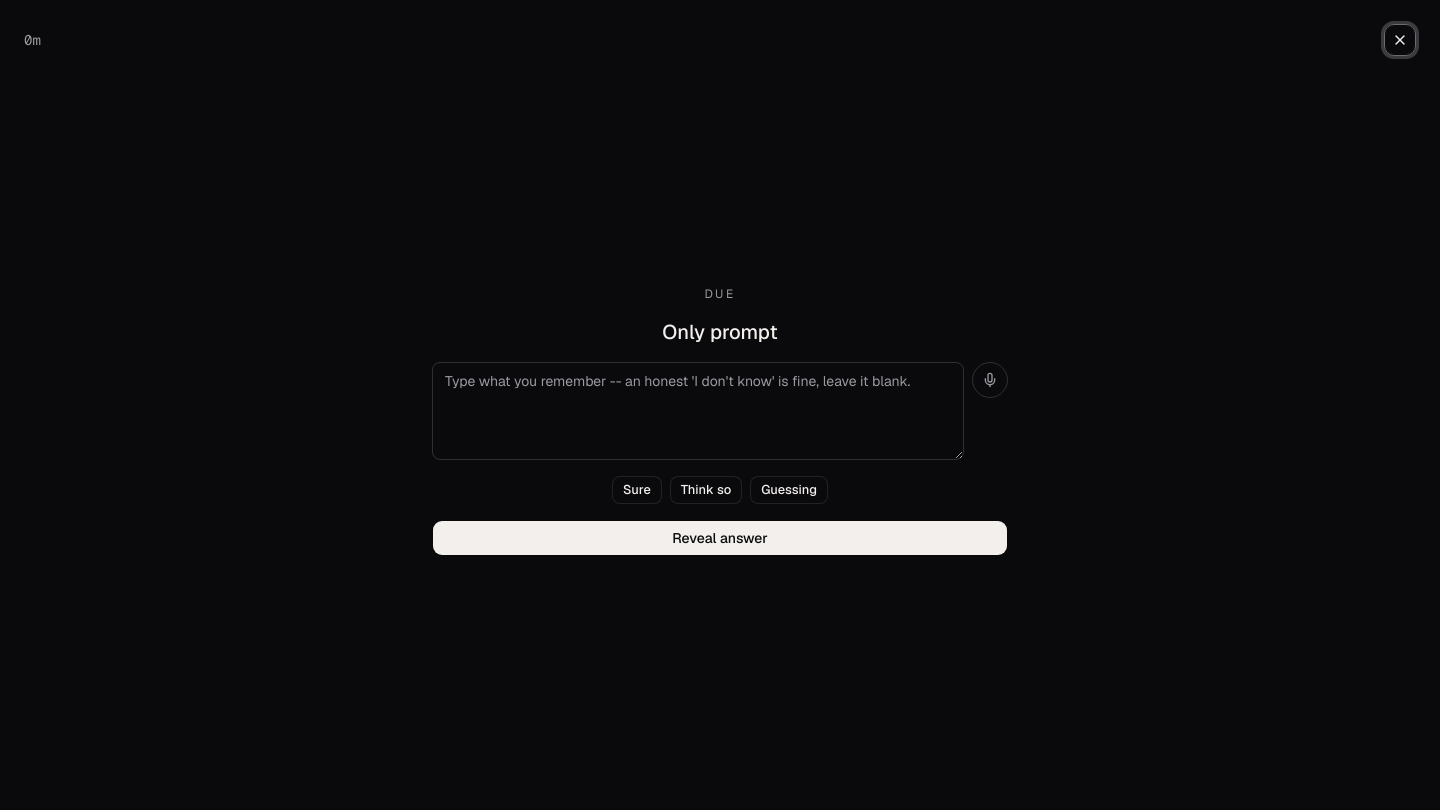
Scenario: RetrievalSessionOverlay › session-complete shows a real effortful-win callout when the RPC reports one, never fabricated when it doesn't
Expected: the text "Only prompt" is shown, [662,319,778,345]
Click the button "Reveal answer".
click(720, 538)  # box [432,520,1008,556]
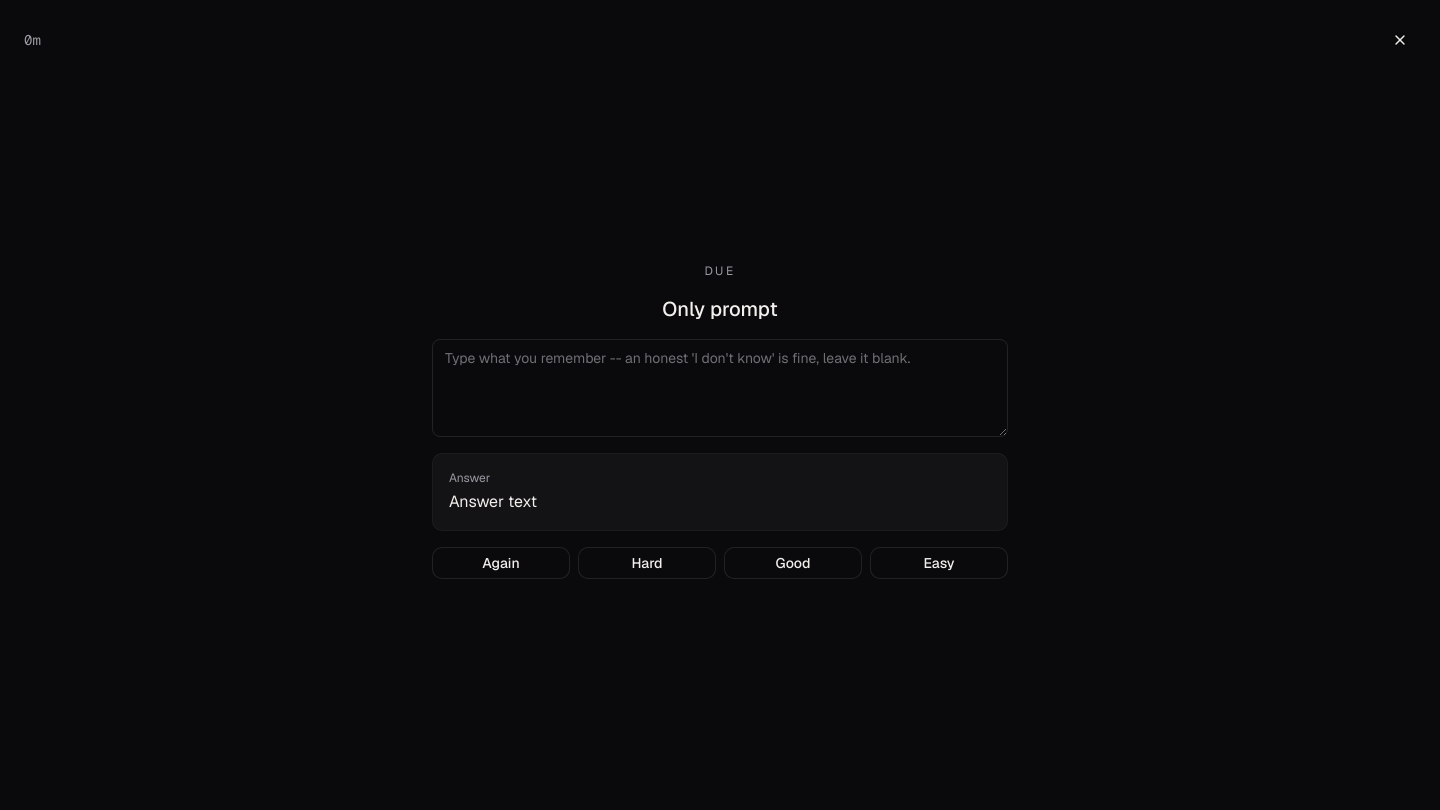
Expected: the button "Easy" is shown
Click the button "Easy".
click(939, 563)  # box [870,547,1008,579]
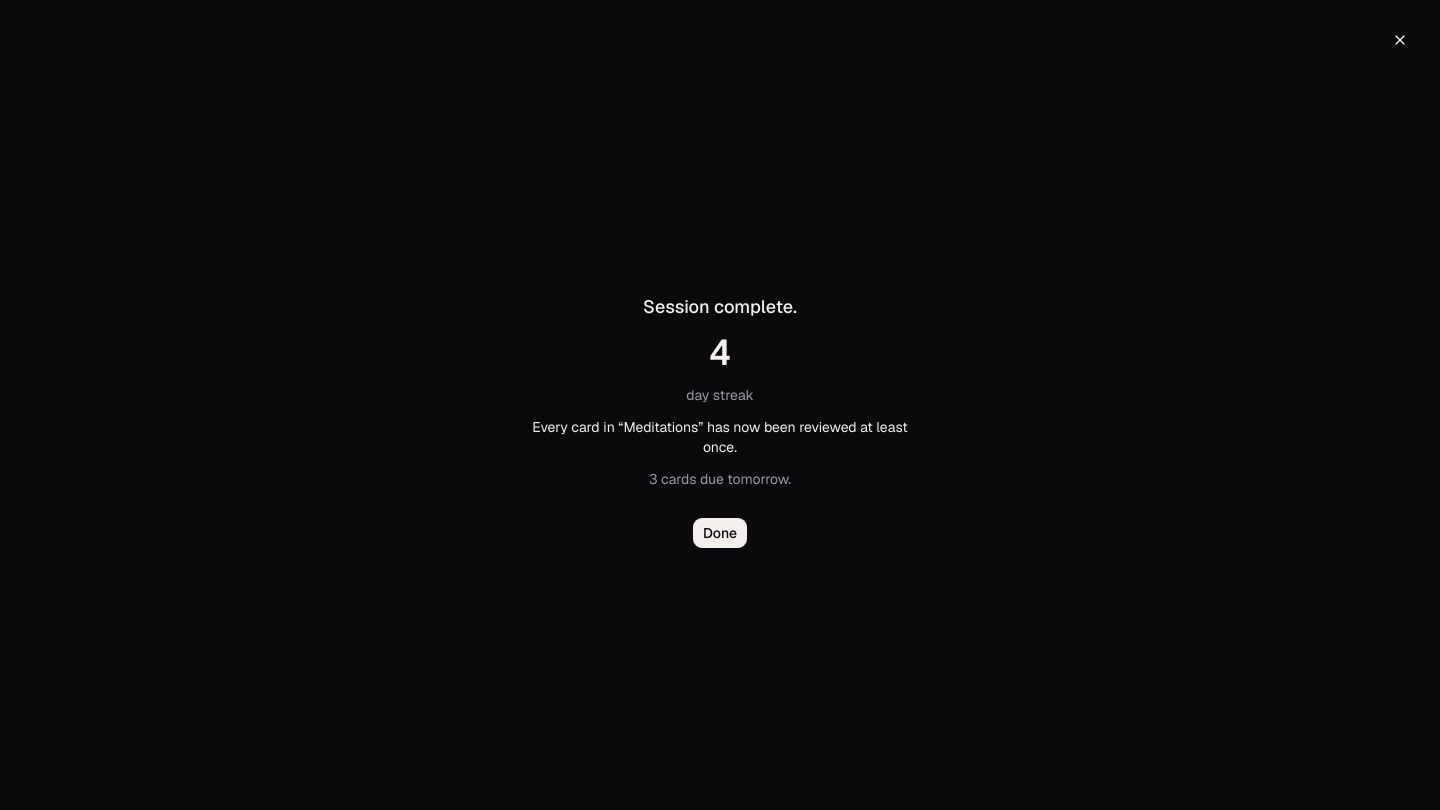
Expected: the text "Meditations" is shown, [624,418,698,436]
Expected: the text "3 cards due tomorrow." is shown, [649,469,791,489]
